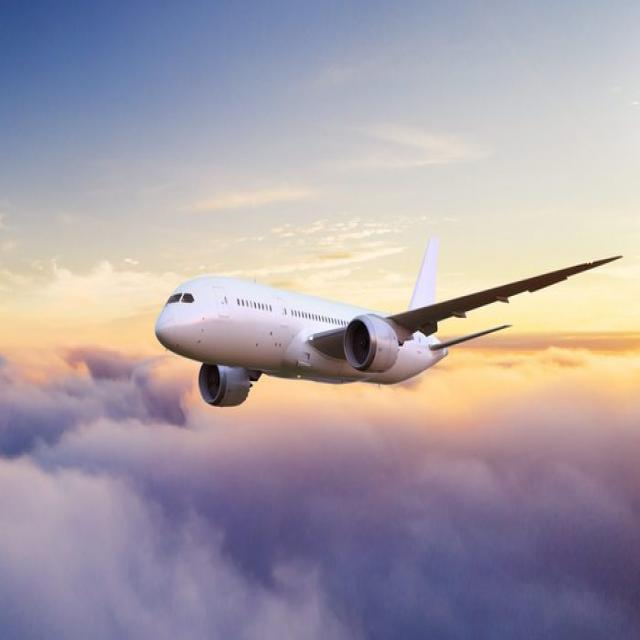plane: (148, 228, 628, 414)
